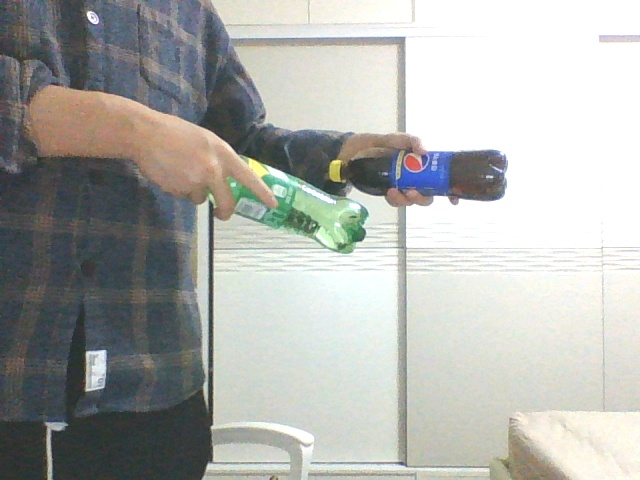Cola: (329, 146, 514, 202)
Sprite: (211, 157, 368, 255)
